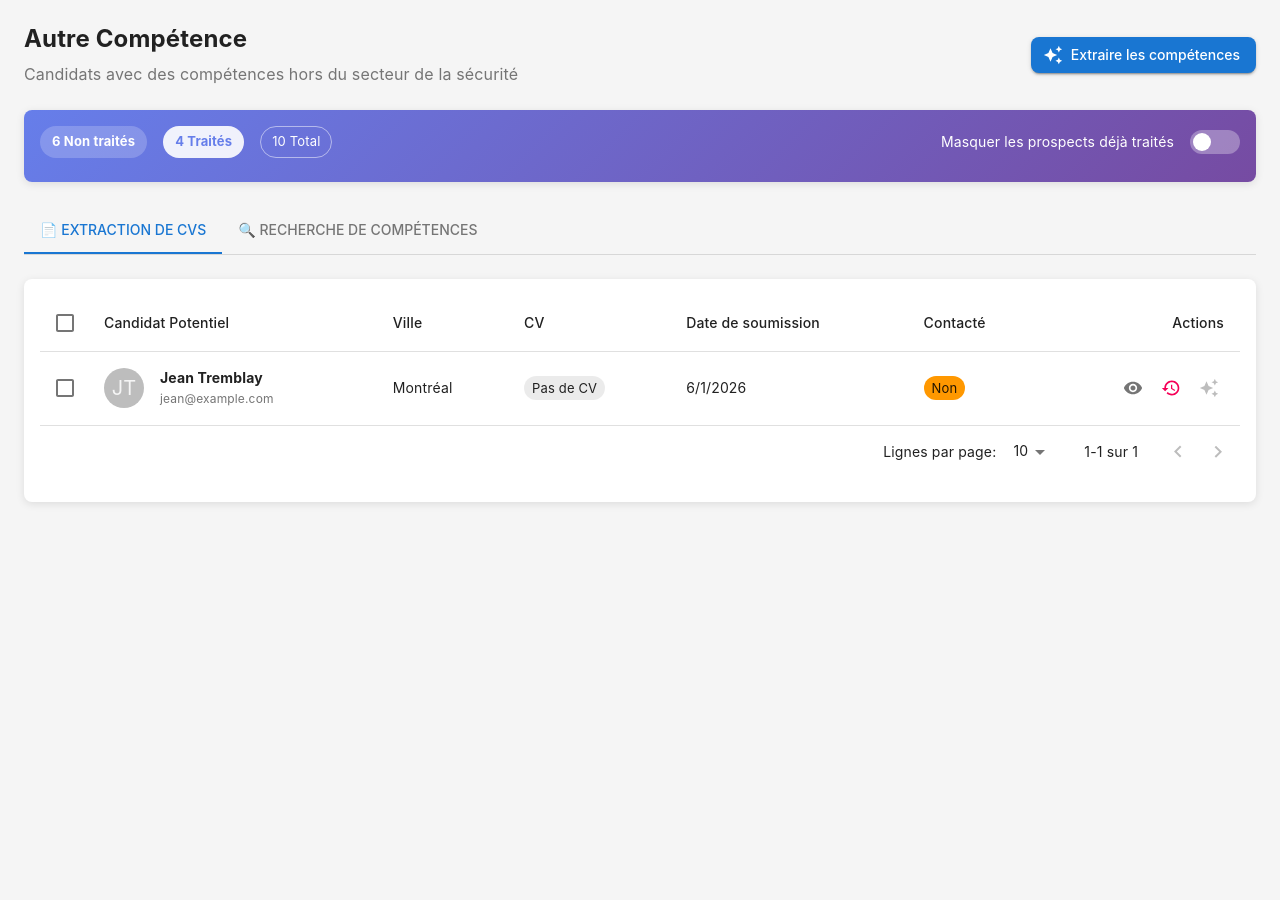
Test: AutresCompetancesPage › avertit quand on lance une extraction batch sans CV disponible
The image size is (1280, 900).
Expected: the text "Jean Tremblay" is shown, [160, 368, 274, 388]
What coordinates should you click on to do the following:
click the button "Extraire les compétences"
I would click on:
 (1143, 55)
Its box is [1031, 37, 1256, 73].
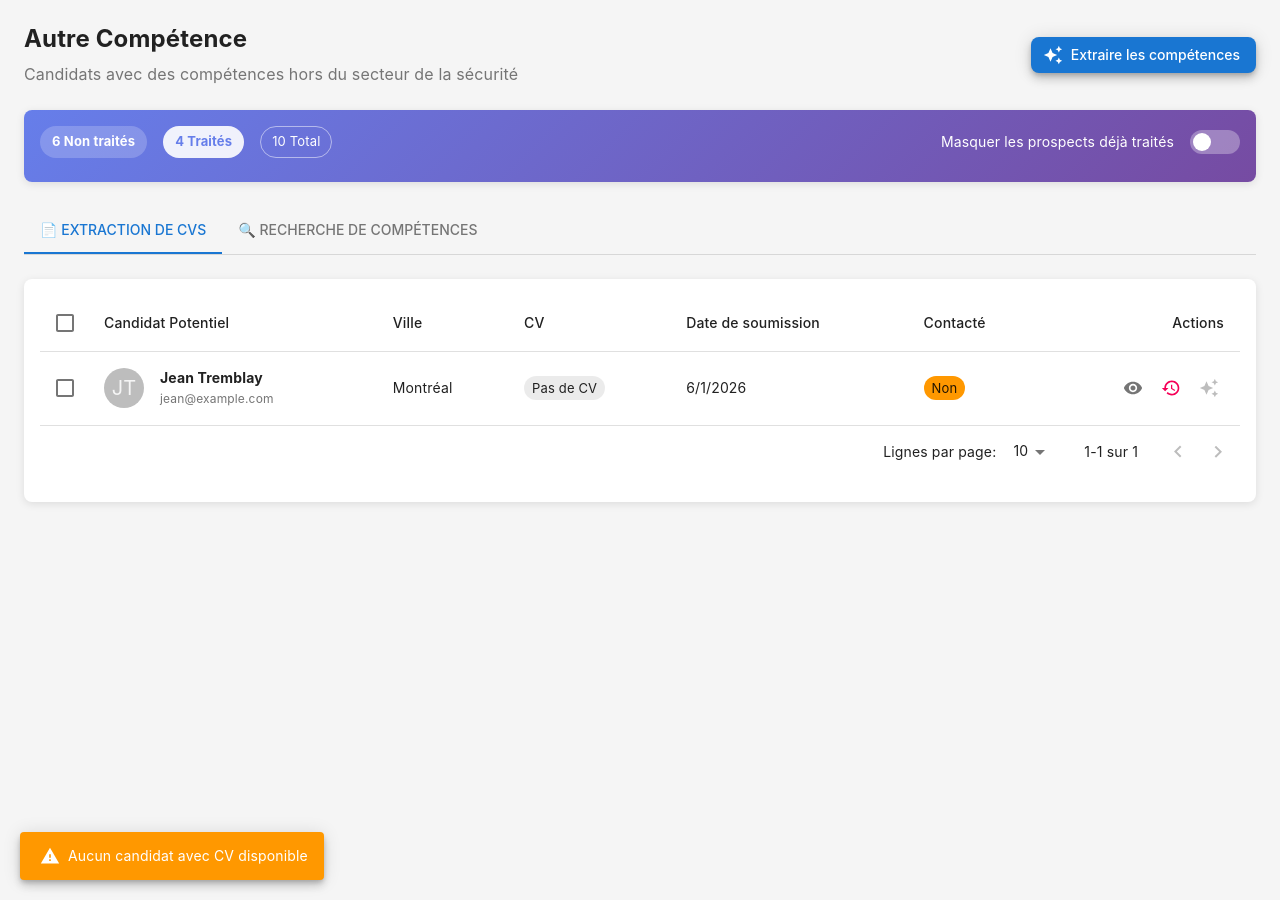
Expected: the text "Aucun candidat avec CV disponible" is shown, [40, 846, 308, 866]
